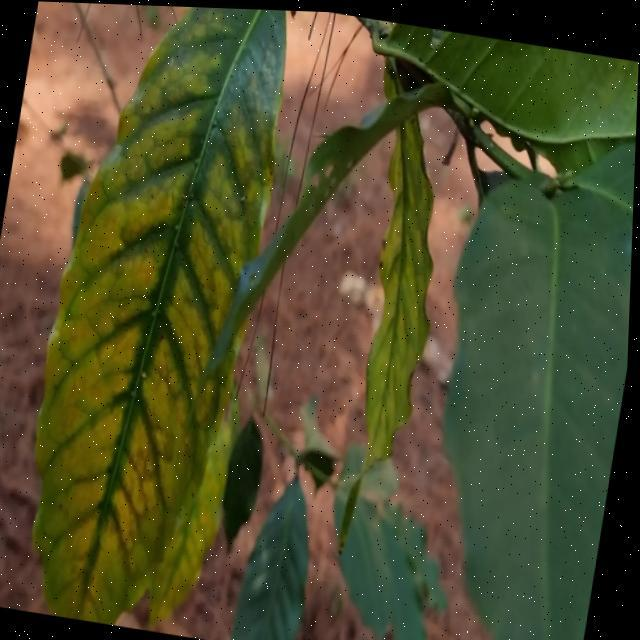leaves: (0, 0, 316, 640)
